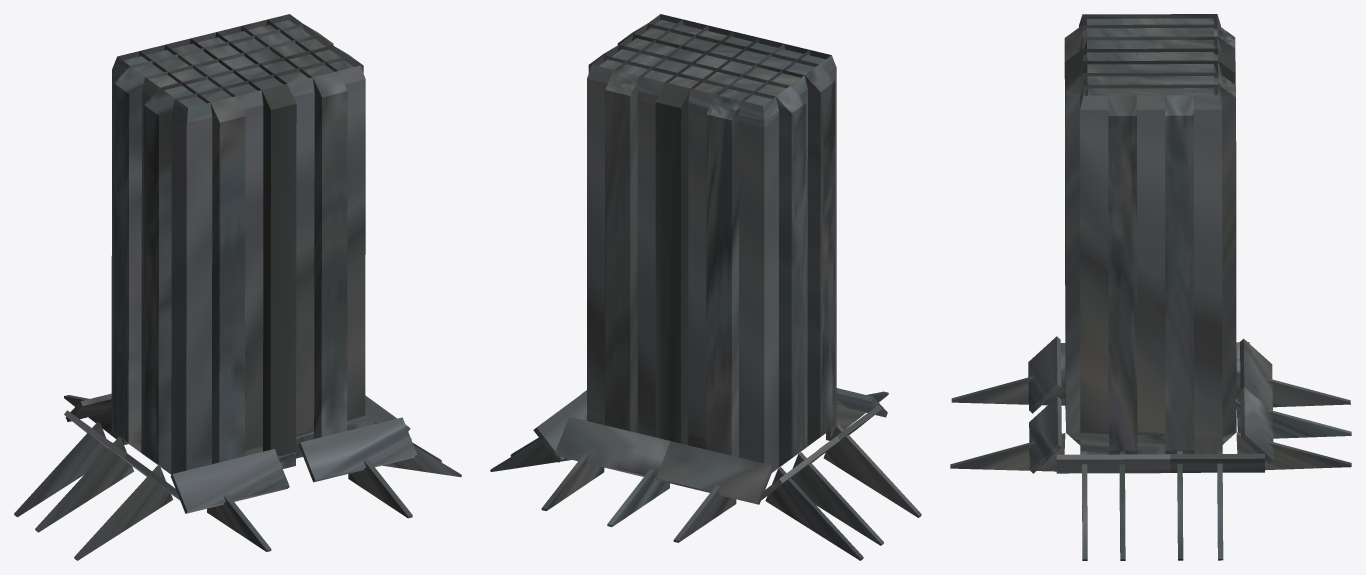
File: bldg4.dae
3 renders of one model, left to right at view 1: azimuth 30°, elevation 25°; view 2: azimuth 150°, elevation 25°; view 3: azimuth 270°, elevation 25°, orthographic. The views are drawn at different scales.
Visible parts, largest first — view 1: bldg3; view 2: bldg3; view 3: bldg3.
Boxes of the visible parts, x1,y1,x2,y2 form: bldg3: [14, 14, 461, 560]; bldg3: [490, 14, 921, 560]; bldg3: [950, 14, 1351, 560].
Size of the model in its own units: 4.69 by 4.52 by 5.2.
1 material, 1 textured.
